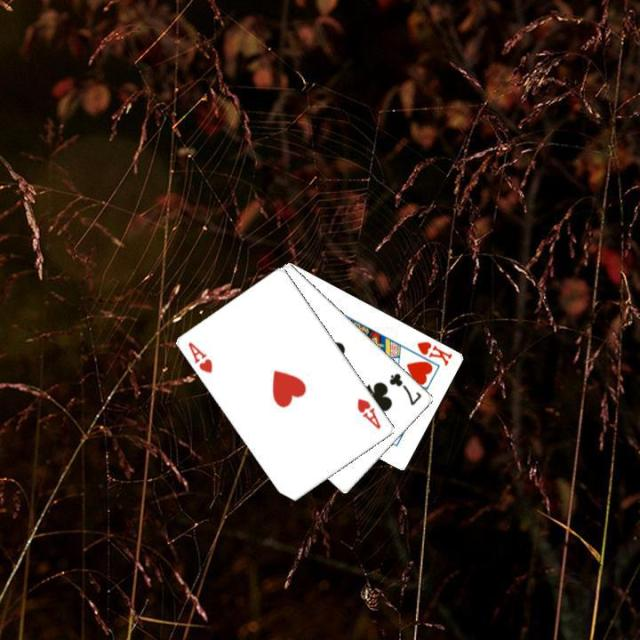7C: (385, 369, 424, 407)
AH: (184, 338, 215, 375), (354, 394, 383, 431)
KH: (414, 337, 454, 368)
